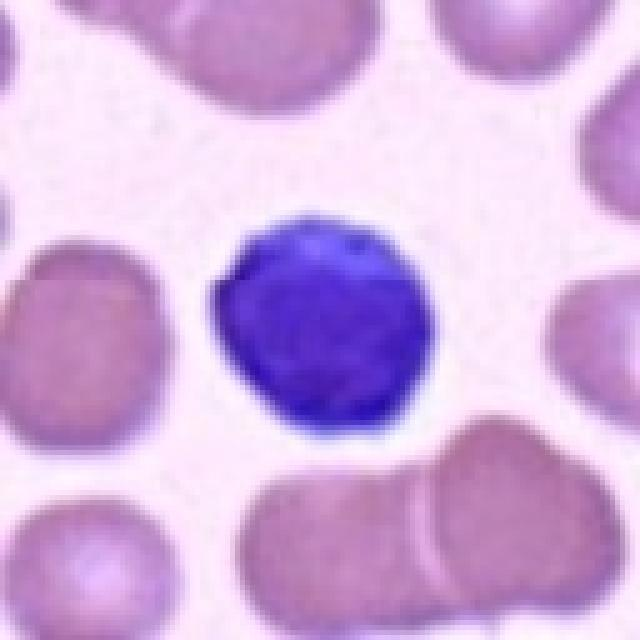lympho: (205, 200, 442, 433)
